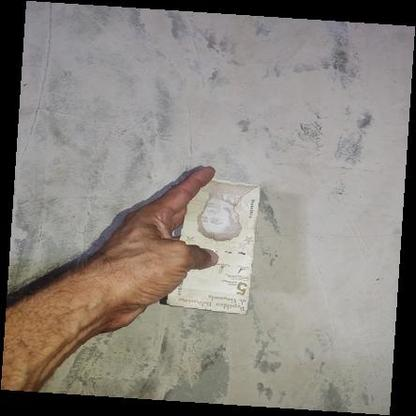five-front-vef: (166, 176, 260, 315)
